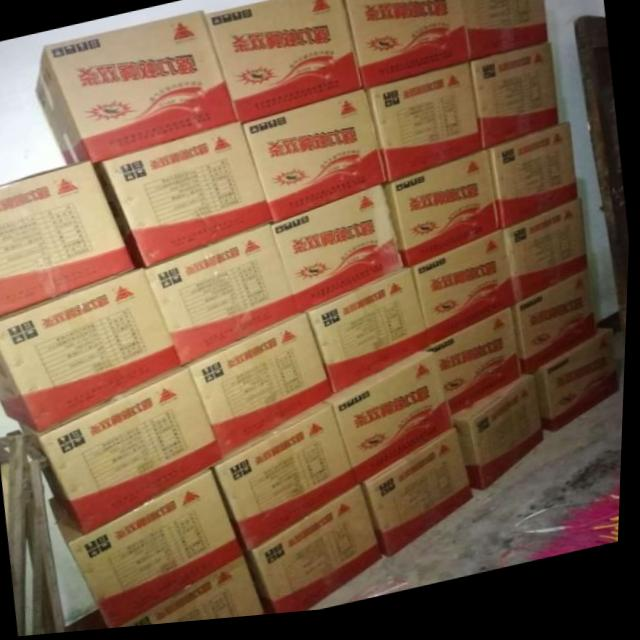box: (23, 368, 227, 537), (52, 470, 249, 631), (35, 14, 240, 167), (0, 270, 182, 433), (95, 125, 276, 270), (215, 407, 362, 559), (146, 229, 301, 371), (0, 162, 138, 321), (187, 318, 337, 460), (202, 0, 364, 129), (242, 96, 388, 227), (248, 491, 387, 620), (273, 191, 407, 319), (326, 360, 455, 491), (305, 275, 432, 400), (365, 436, 479, 565), (365, 68, 484, 191), (385, 158, 501, 275), (343, 0, 471, 96), (414, 238, 518, 354), (423, 315, 524, 424), (119, 559, 273, 630), (454, 383, 548, 499), (489, 132, 580, 238), (471, 51, 559, 160), (513, 279, 601, 384), (538, 339, 625, 442), (506, 209, 591, 312), (463, 0, 549, 68)
